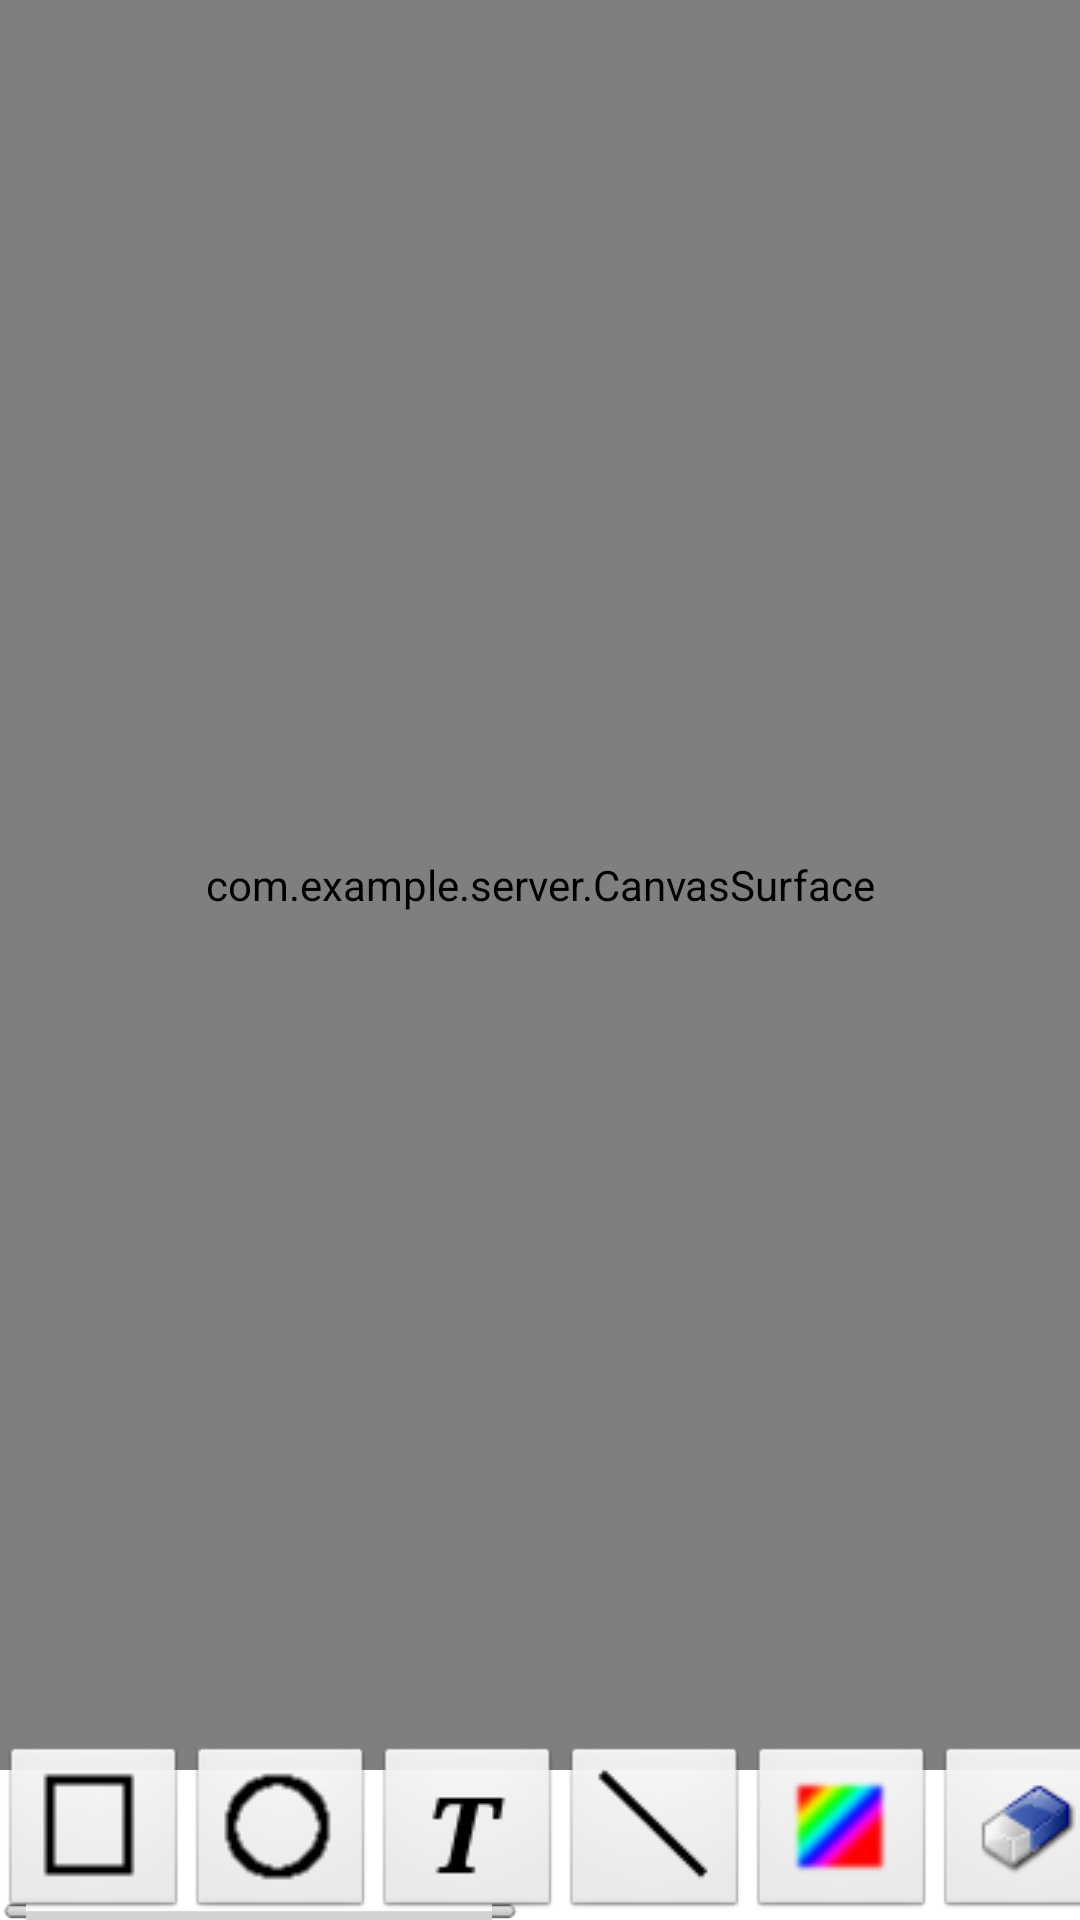

Where to tap for icons on this 1080 x 1920 app screen, as point (x, y):
circle: point (280, 1832)
line: point (654, 1832)
rect: point (93, 1832)
text: point (467, 1832)
